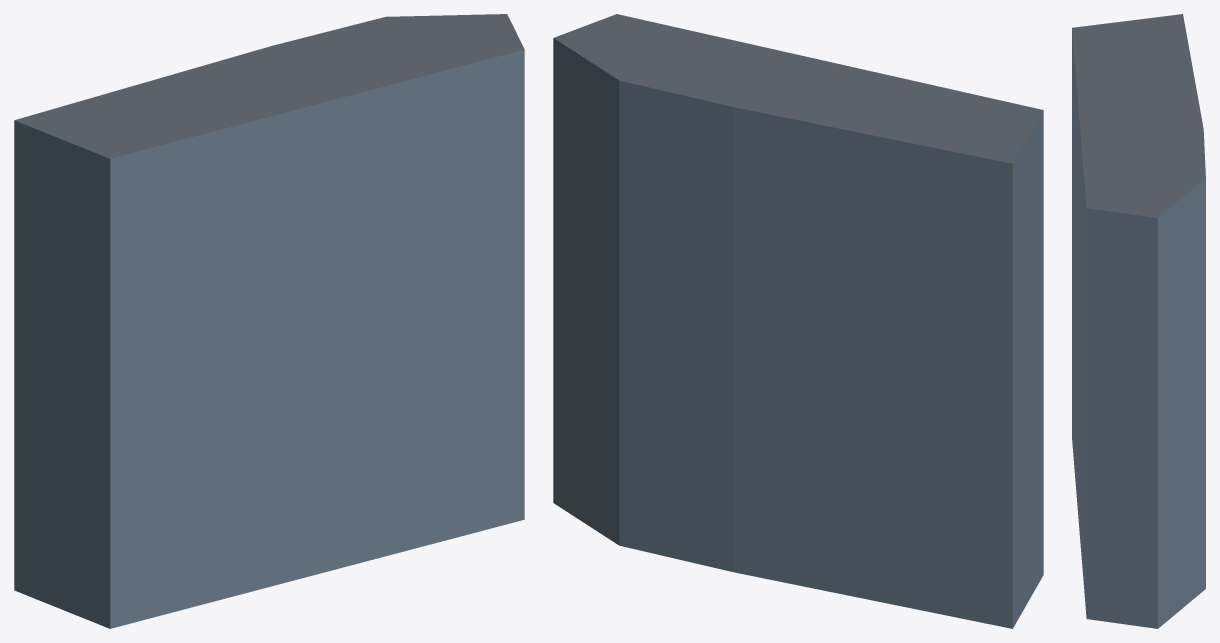
3 renders of one model, left to right at view 1: azimuth 30°, elevation 25°; view 2: azimuth 150°, elevation 25°; view 3: azimuth 270°, elevation 25°, orthographic. The views are drawn at different scales.
Visible parts, largest first — view 1: HP-w250067019; view 2: HP-w250067019; view 3: HP-w250067019.
Boxes of the visible parts, x1,y1,x2,y2 form: HP-w250067019: (14, 14, 524, 628); HP-w250067019: (553, 14, 1043, 628); HP-w250067019: (1072, 14, 1205, 628).
Bounding box in the file's own units: 80.97 × 76 × 22.45.
